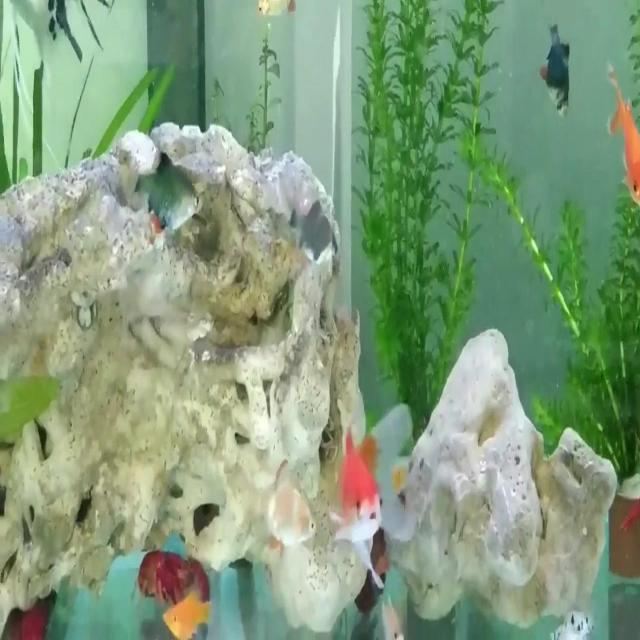GoldFish: (331, 414, 395, 564), (606, 64, 640, 208)
